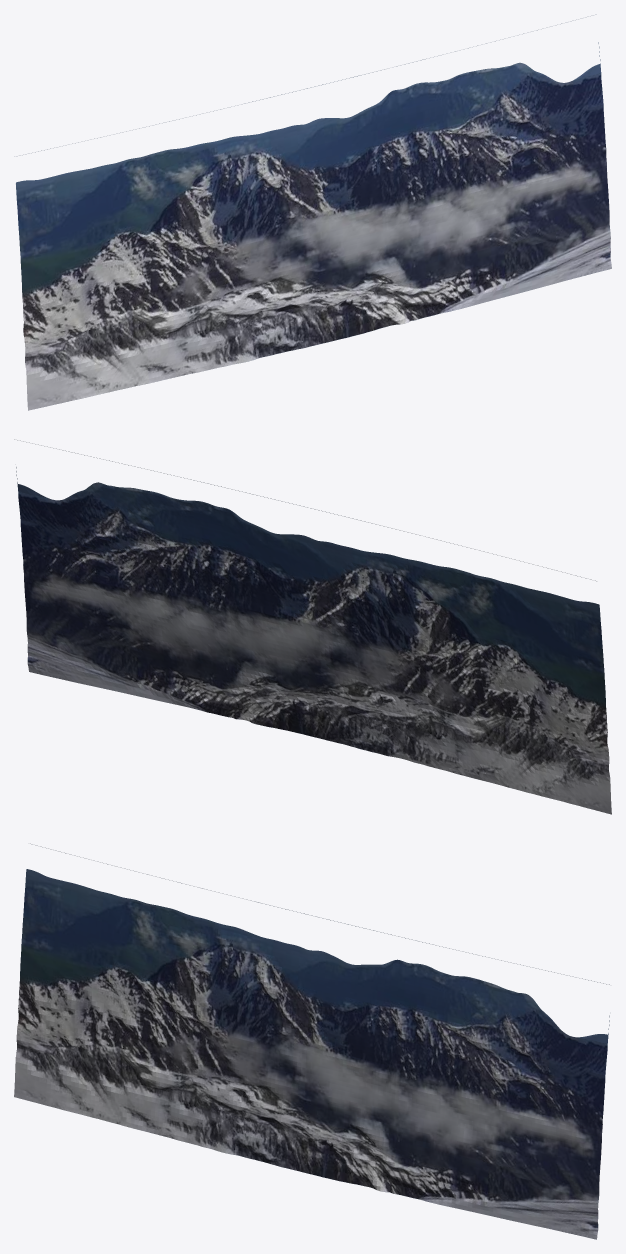
The model's file is Midgard_Snow_Mountain_Range_V1_YUP.glb.
3 views of the same model, one above another, from view 1: azimuth 30°, elevation 25°; view 2: azimuth 150°, elevation 25°; view 3: azimuth 330°, elevation 25° (orthographic).
Visible parts, largest first — view 1: SnowMountainRange_YUP; view 2: SnowMountainRange_YUP; view 3: SnowMountainRange_YUP.
Boxes of the visible parts, x1,y1,x2,y2 form: SnowMountainRange_YUP: [14, 14, 611, 410]; SnowMountainRange_YUP: [14, 439, 611, 814]; SnowMountainRange_YUP: [14, 843, 609, 1239].
Size of the model in its own units: 115 by 45.87 by 6.67.
1 material, 1 textured.
